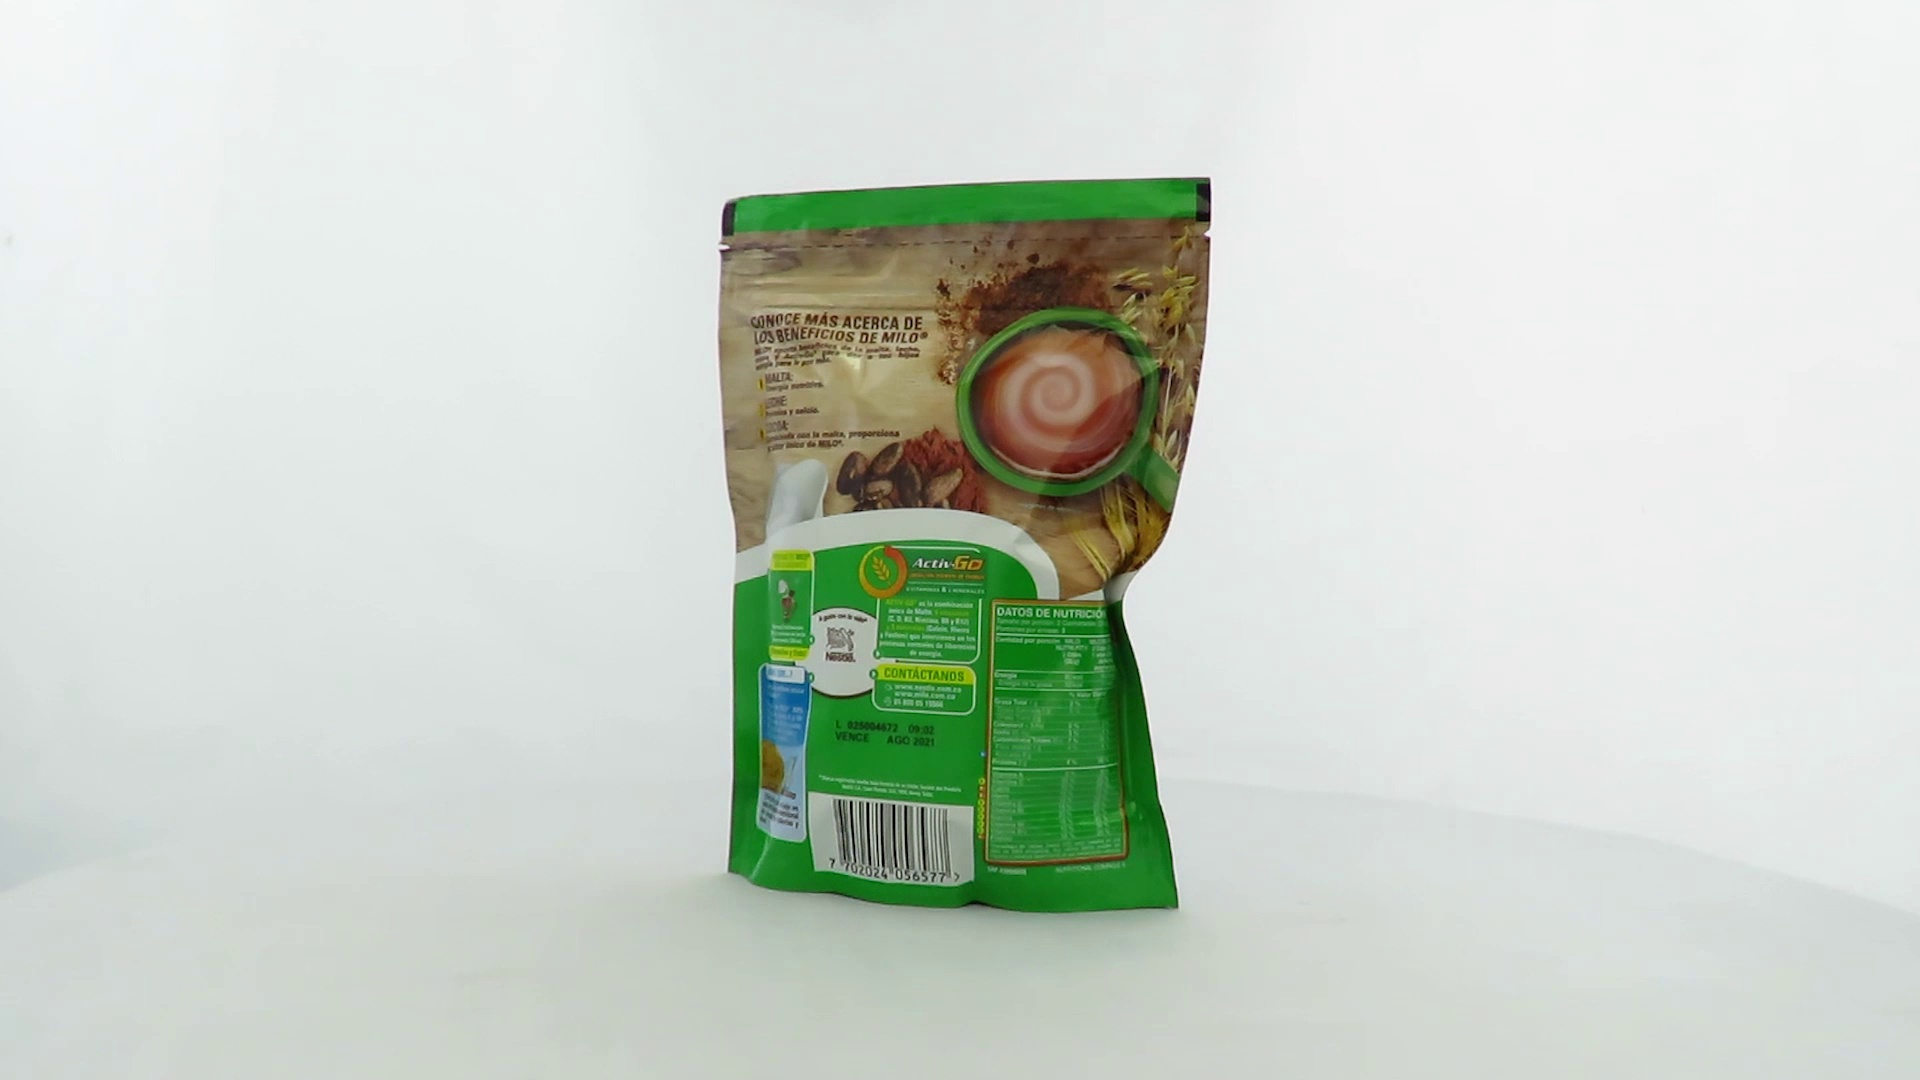COL0170205DYP20000: (712, 171, 1217, 920)
